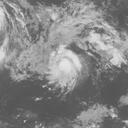cyclone: (46, 49, 83, 88)
